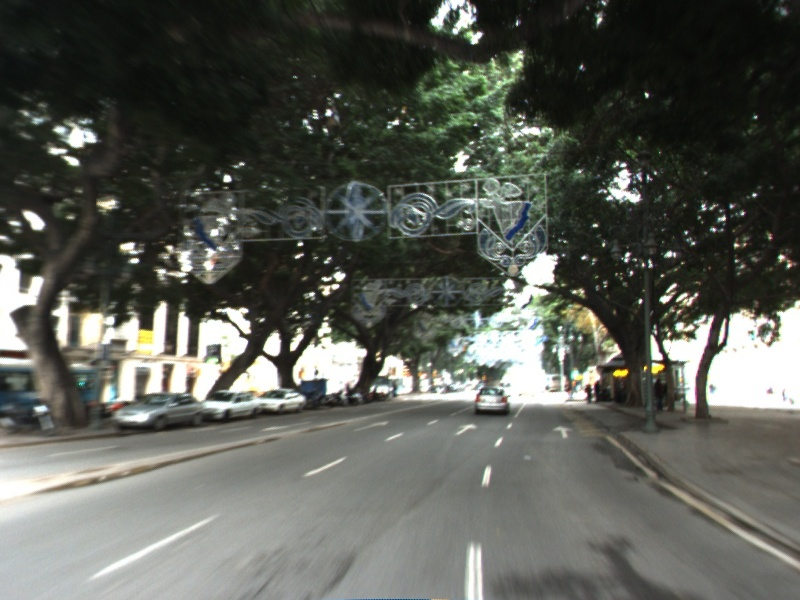STRAIGHT: (351, 419, 392, 433), (550, 423, 576, 440), (453, 421, 480, 437)
